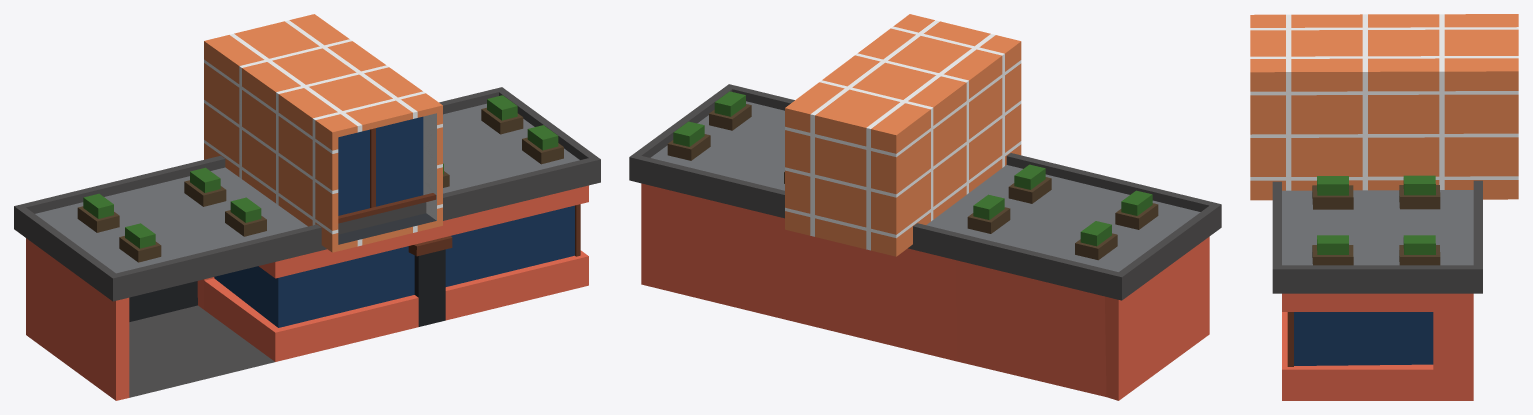
File: Apartment_4.fbx
3 renders of one model, left to right at view 1: azimuth 30°, elevation 25°; view 2: azimuth 150°, elevation 25°; view 3: azimuth 270°, elevation 25°, orthographic. The views are drawn at different scales.
Parts seen in each view (by area): view 1: Apartment_4; view 2: Apartment_4; view 3: Apartment_4.
Boxes of the visible parts, <box> form: Apartment_4: <box>14,14,600,400</box>; Apartment_4: <box>629,14,1221,400</box>; Apartment_4: <box>1250,14,1518,400</box>.
Size of the model in its own units: 1263 by 570 by 565.
